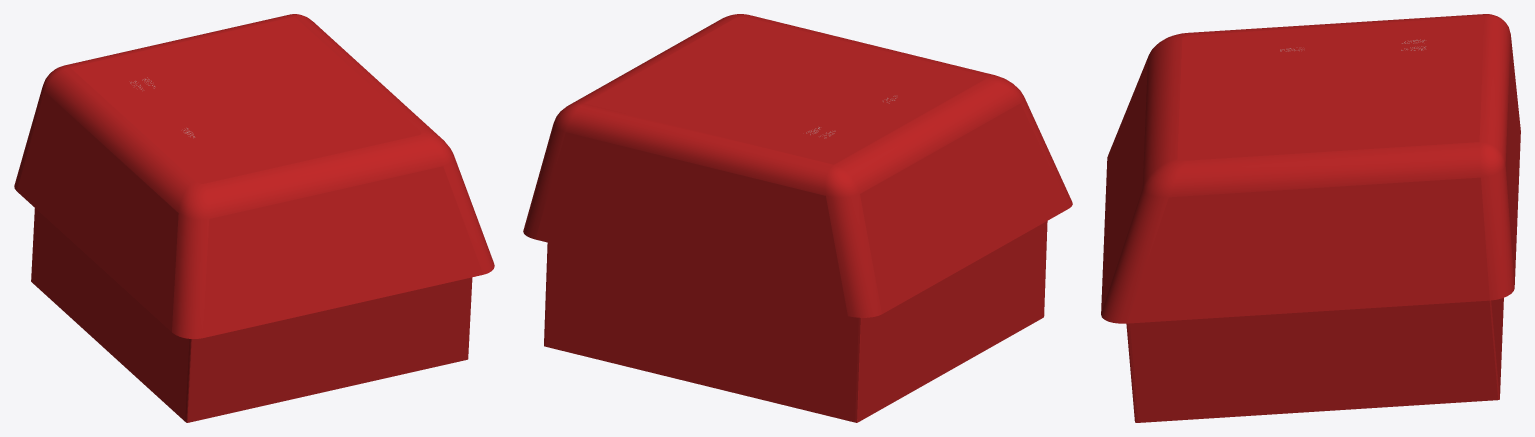
The model's file is original-87.obj.
The picture shows the model from 3 angles, left to right: view 1: azimuth 30°, elevation 25°; view 2: azimuth 150°, elevation 25°; view 3: azimuth 270°, elevation 25°; orthographic projection. The views are drawn at different scales.
Visible parts, largest first — view 1: Group81/mesh305/mesh305-geometry#mesh305-geometry; view 2: Group81/mesh305/mesh305-geometry#mesh305-geometry; view 3: Group81/mesh305/mesh305-geometry#mesh305-geometry.
Boxes of the visible parts, bbox=[...] form: Group81/mesh305/mesh305-geometry#mesh305-geometry: bbox=[14, 14, 494, 422]; Group81/mesh305/mesh305-geometry#mesh305-geometry: bbox=[523, 14, 1072, 422]; Group81/mesh305/mesh305-geometry#mesh305-geometry: bbox=[1101, 14, 1520, 422].
Bounding box in the file's own units: 0.0378 × 0.0268 × 0.0377.
